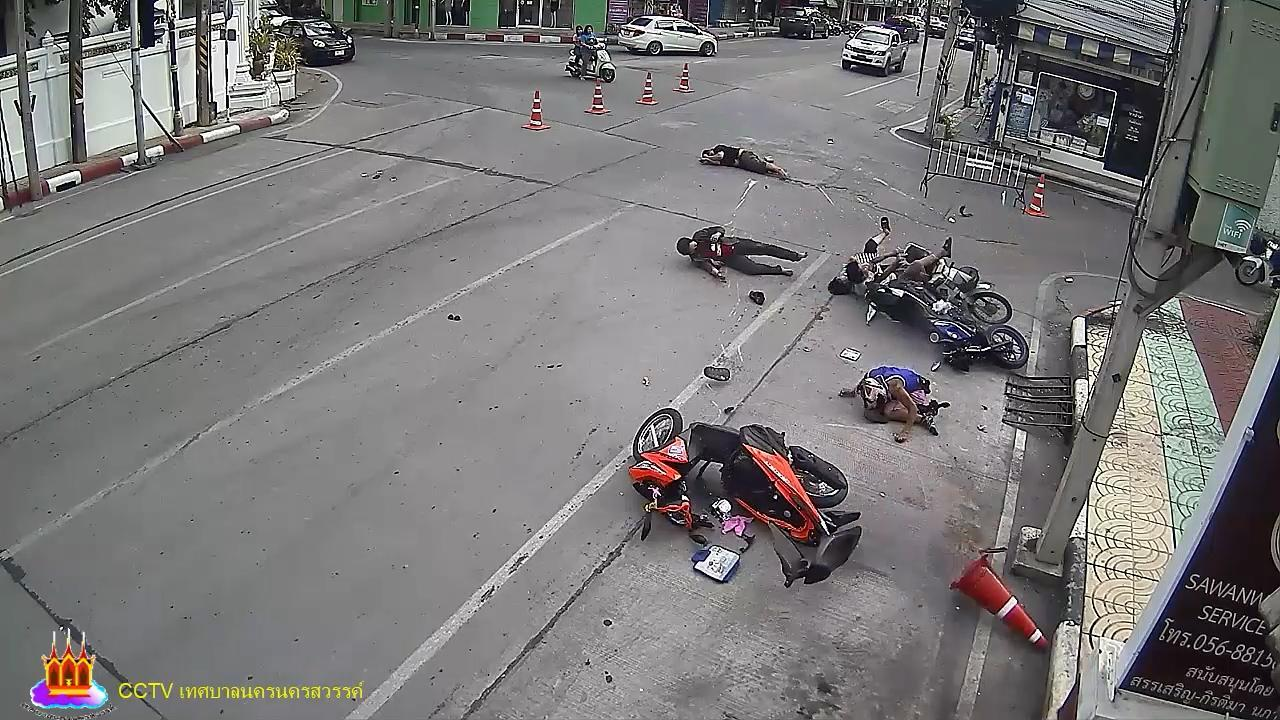accident: (839, 365, 947, 445), (673, 225, 808, 284), (844, 241, 956, 294), (697, 143, 793, 184)
